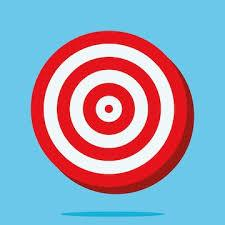target_red: (30, 29, 194, 194)
